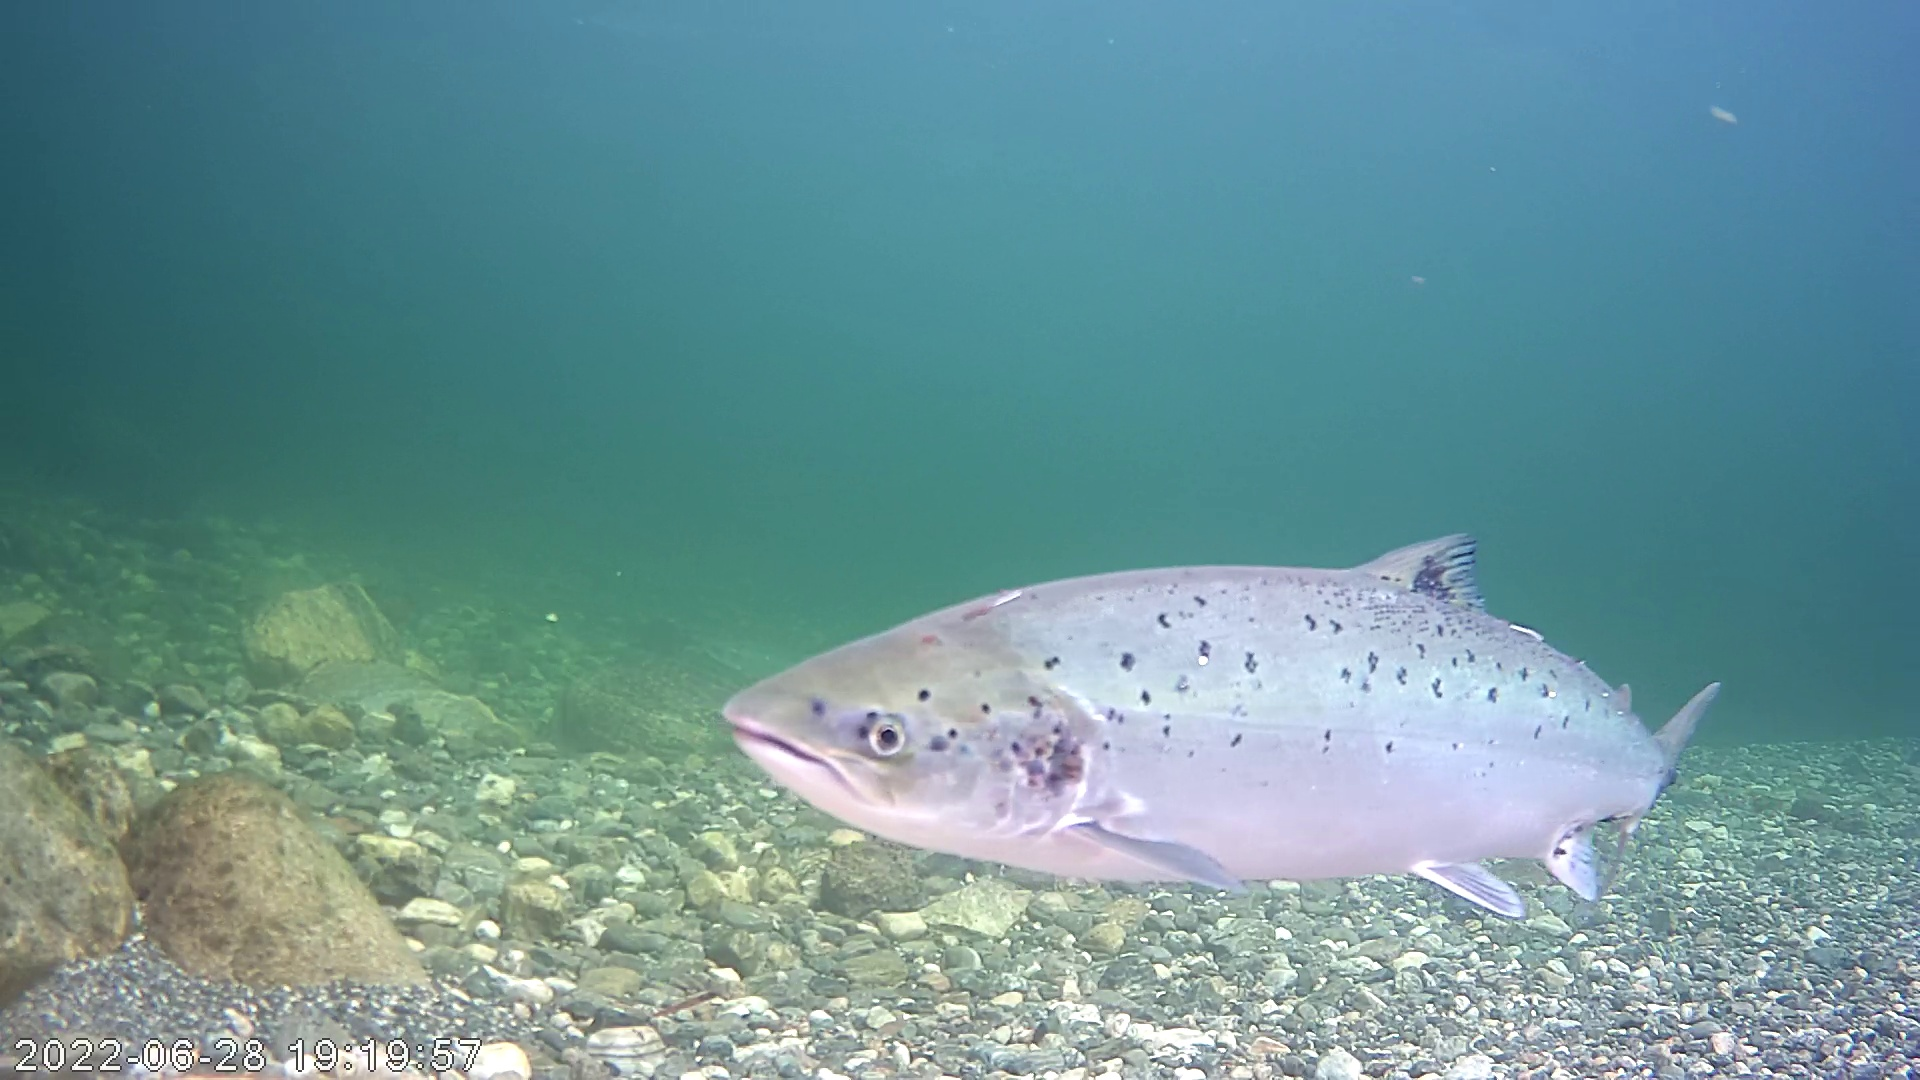salmon: (687, 447, 1716, 890)
